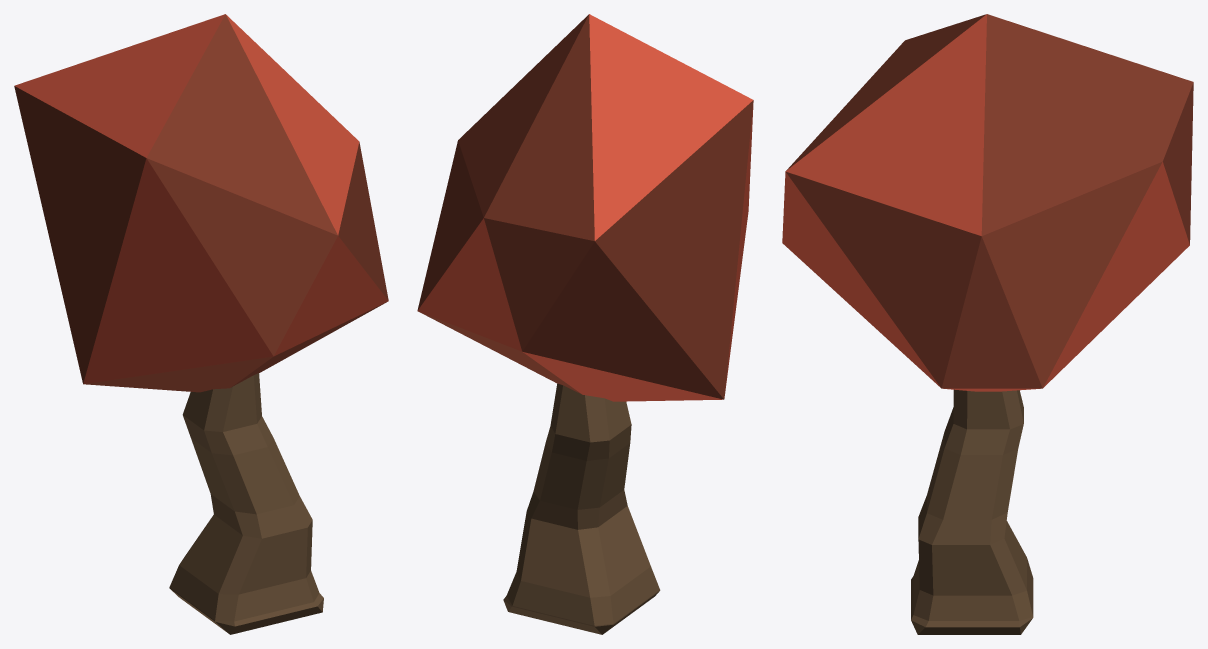
File: Tree_1_Red.fbx
3 renders of one model, left to right at view 1: azimuth 30°, elevation 25°; view 2: azimuth 150°, elevation 25°; view 3: azimuth 270°, elevation 25°, orthographic. The views are drawn at different scales.
Visible parts, largest first — view 1: Tree_1_Red_Part_2, Tree_1_Red_Part_3, Tree_1_Red_Part_1; view 2: Tree_1_Red_Part_2, Tree_1_Red_Part_3, Tree_1_Red_Part_1; view 3: Tree_1_Red_Part_2, Tree_1_Red_Part_3, Tree_1_Red_Part_1.
Part boxes in pixels (x1,y1,x2,y2): Tree_1_Red_Part_2: (14,14,388,392); Tree_1_Red_Part_3: (14,14,388,384); Tree_1_Red_Part_1: (169,373,323,634); Tree_1_Red_Part_2: (417,14,753,399); Tree_1_Red_Part_3: (417,14,753,401); Tree_1_Red_Part_1: (503,383,660,634); Tree_1_Red_Part_2: (785,14,1193,388); Tree_1_Red_Part_3: (782,14,1189,391); Tree_1_Red_Part_1: (911,389,1033,634).
Bounding box in the file's own units: 302 × 610 × 385.
